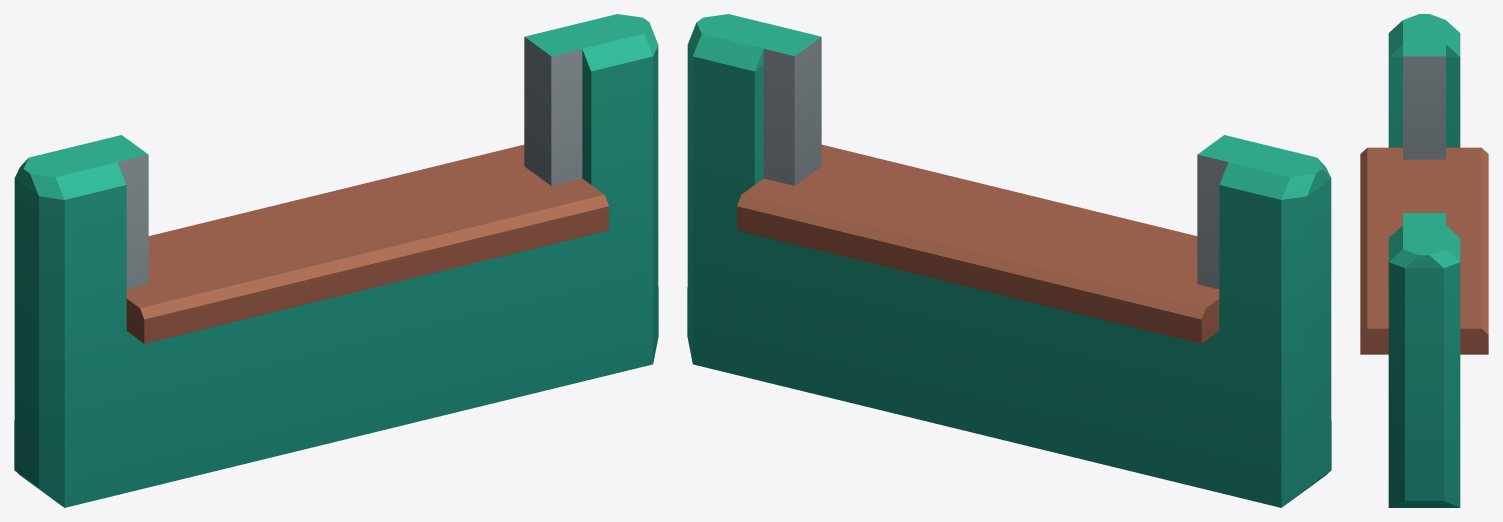
Rendered from wall_orderwindow_low.gltf.
3 views of the same model, side by side, from view 1: azimuth 30°, elevation 25°; view 2: azimuth 150°, elevation 25°; view 3: azimuth 270°, elevation 25° (orthographic). The views are drawn at different scales.
Parts seen in each view (by area): view 1: wall_orderwindow_low; view 2: wall_orderwindow_low; view 3: wall_orderwindow_low.
Part boxes in pixels (x1,y1,x2,y2): wall_orderwindow_low: (14,14,658,507); wall_orderwindow_low: (687,14,1331,507); wall_orderwindow_low: (1360,14,1488,507).
Bounding box in the file's own units: 4 × 2 × 0.9.
1 material, 1 textured.
